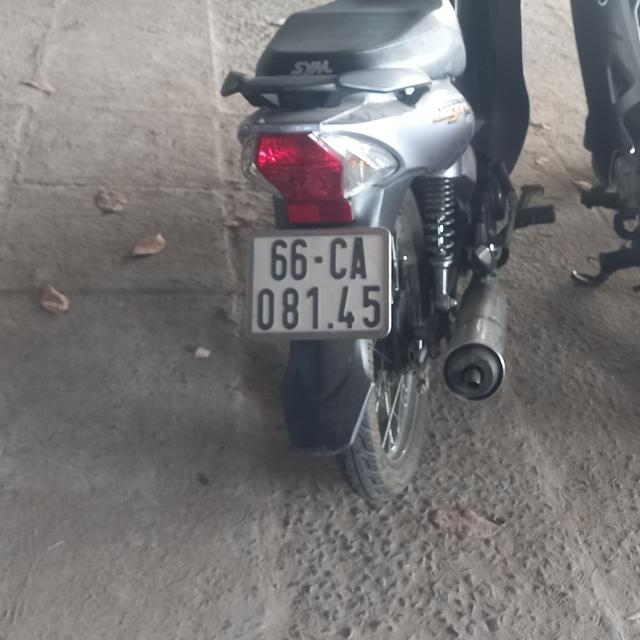0: (258, 287, 275, 330)
1: (307, 286, 322, 330)
4: (338, 286, 354, 328)
5: (362, 285, 381, 327)
6: (291, 238, 307, 280), (271, 239, 287, 279)
8: (282, 287, 299, 328)
A: (349, 235, 368, 281)
C: (330, 236, 347, 279)
